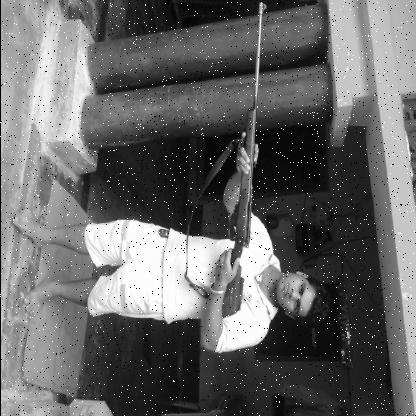rifle: (204, 0, 266, 324)
